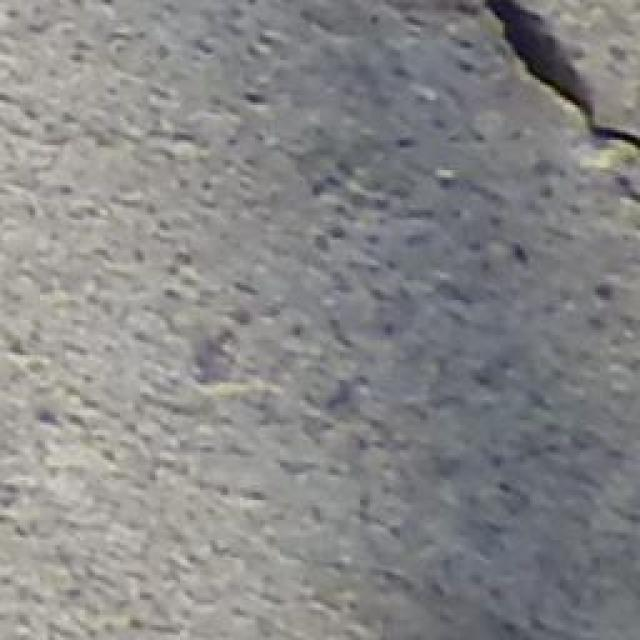concrete-crack: (474, 0, 640, 157)
